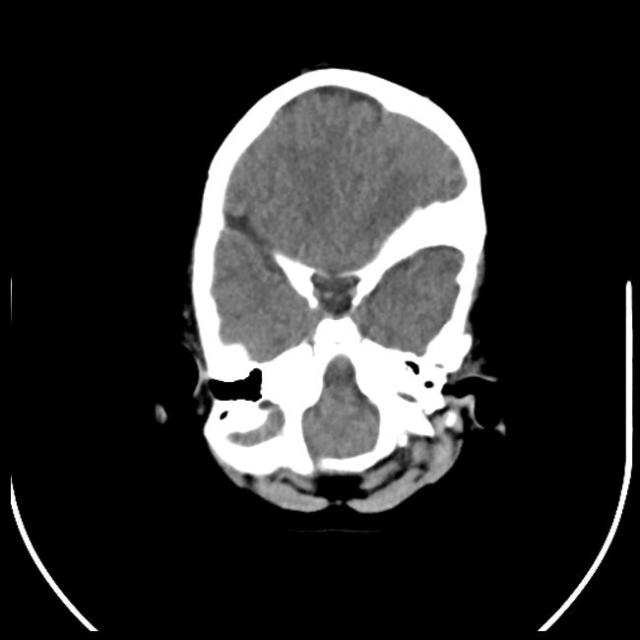lesion: (216, 362, 322, 492)
